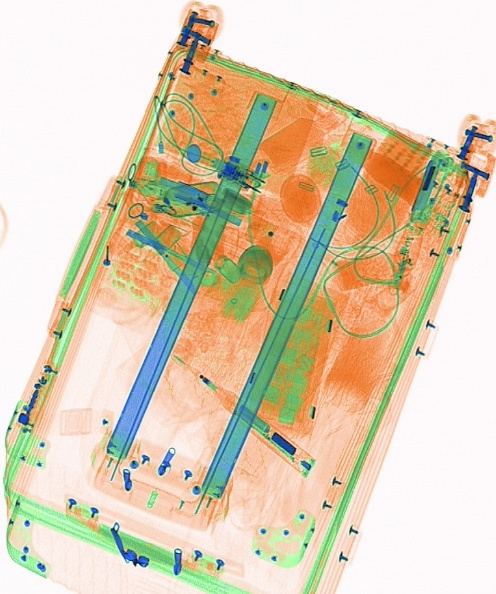glassbottle: (151, 180, 223, 219), (129, 218, 184, 256), (236, 243, 274, 287), (213, 253, 244, 284), (218, 187, 252, 215)
tsbingdao: (133, 218, 200, 298), (123, 226, 216, 276)
